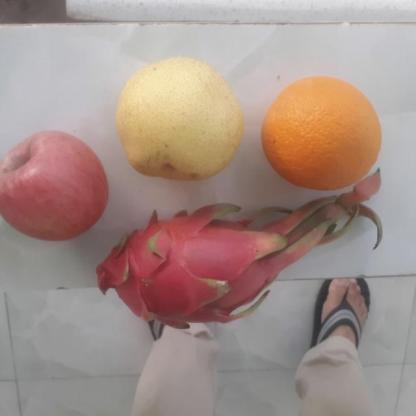apple: (0, 126, 110, 243)
orange: (258, 77, 384, 189)
pear: (108, 58, 247, 180)
pitaya: (89, 209, 260, 330)
